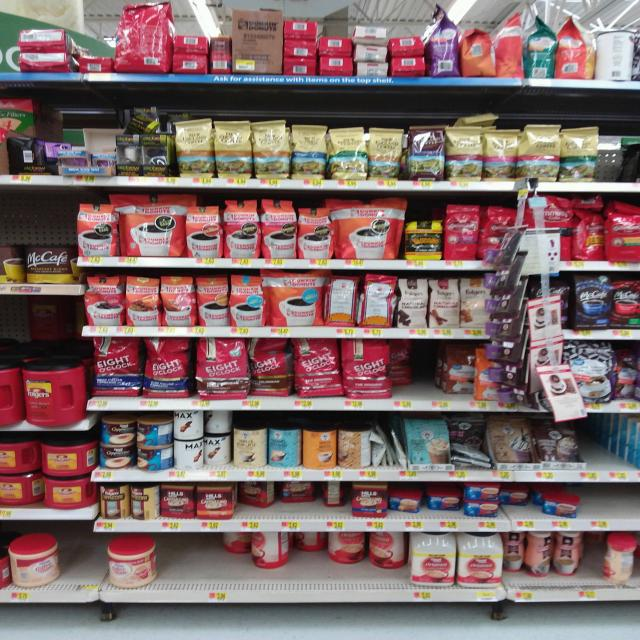void: (162, 534, 220, 604), (63, 534, 108, 604), (585, 418, 625, 483), (602, 122, 636, 190), (590, 486, 640, 530), (417, 340, 443, 415)
